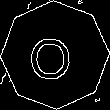O_N: (33, 29, 77, 81)
